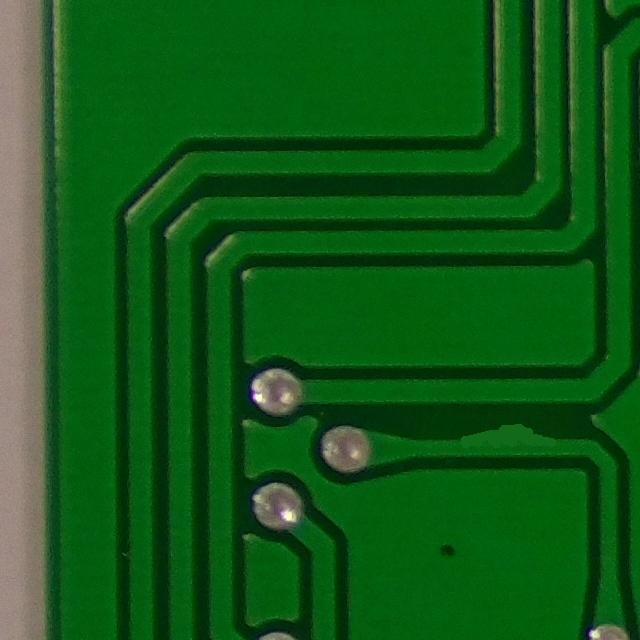spur: (452, 413, 576, 475)
